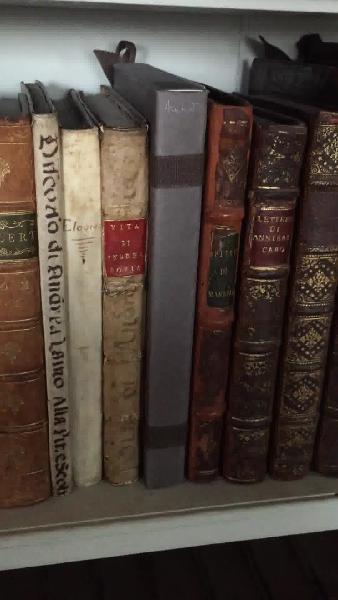Aa6-24: (22, 103, 77, 494)
Aa6-25: (56, 120, 114, 501)
Aa6-26: (87, 103, 142, 497)
Aa6-27: (139, 75, 205, 492)
Aa6-28: (192, 88, 244, 476)
Aa6-29: (225, 110, 300, 496)
Aa6-30: (276, 92, 338, 483)
